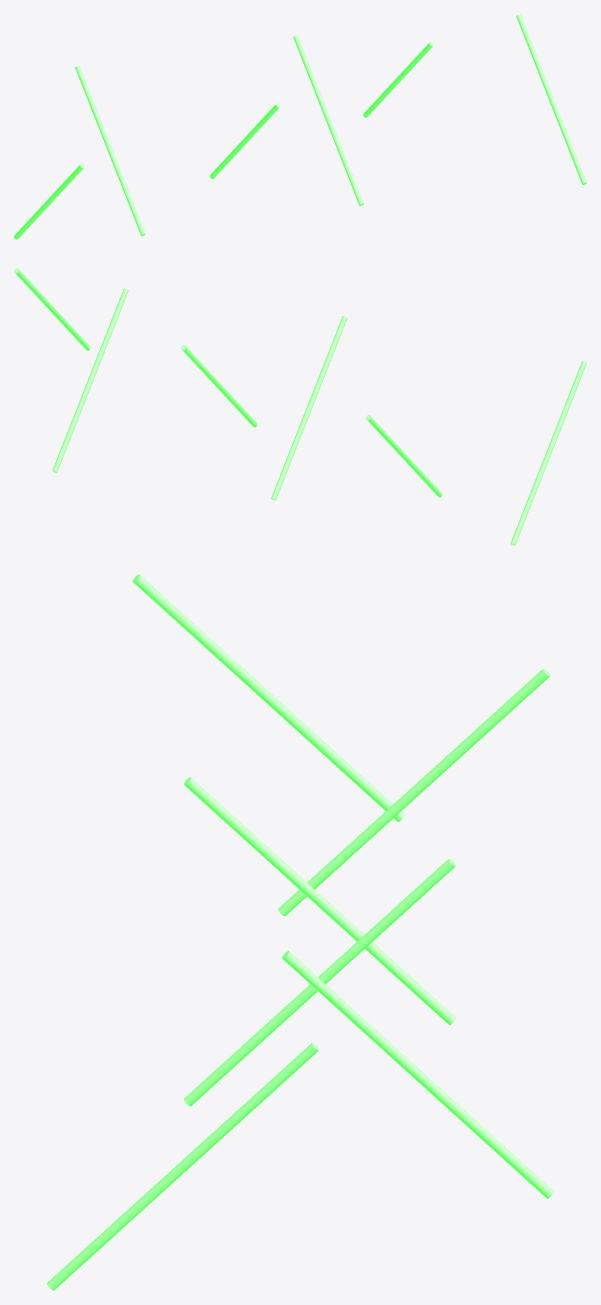
File: wire.fbx
3 views of the same model, one above another, from view 1: azimuth 30°, elevation 25°; view 2: azimuth 150°, elevation 25°; view 3: azimuth 270°, elevation 25° (orthographic). The views are drawn at different scales.
Visible parts, largest first — view 1: Cylinder.003, Cylinder.005, Cylinder.001, Cylinder, Cylinder.004, Cylinder.002; view 2: Cylinder, Cylinder.004, Cylinder.002, Cylinder.001, Cylinder.005, Cylinder.003; view 3: Cylinder.005, Cylinder.004, Cylinder, Cylinder.001, Cylinder.003, Cylinder.002.
Boxes of the visible parts, x1=… form: Cylinder.003: x1=293, y1=35, x2=363, y2=205; Cylinder.005: x1=516, y1=14, x2=586, y2=184; Cylinder.001: x1=75, y1=65, x2=145, y2=236; Cylinder: x1=14, y1=163, x2=84, y2=239; Cylinder.004: x1=363, y1=41, x2=433, y2=117; Cylinder.002: x1=210, y1=103, x2=280, y2=178; Cylinder: x1=510, y1=361, x2=586, y2=545; Cylinder.004: x1=52, y1=288, x2=128, y2=472; Cylinder.002: x1=271, y1=316, x2=347, y2=500; Cylinder.001: x1=366, y1=415, x2=442, y2=497; Cylinder.005: x1=14, y1=268, x2=90, y2=350; Cylinder.003: x1=181, y1=345, x2=257, y2=427; Cylinder.005: x1=47, y1=1043, x2=318, y2=1290; Cylinder.004: x1=282, y1=951, x2=553, y2=1198; Cylinder: x1=132, y1=574, x2=404, y2=821; Cylinder.001: x1=278, y1=668, x2=550, y2=916; Cylinder.003: x1=183, y1=858, x2=455, y2=1106; Cylinder.002: x1=184, y1=777, x2=455, y2=1024.
Size of the model in its own units: 2111 by 514 by 955.
